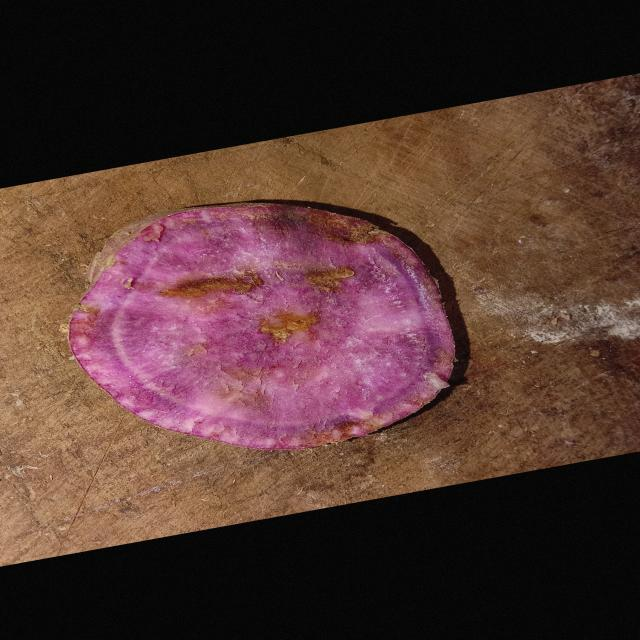Sick Sweet Potato_Tuber Rot: (69, 204, 456, 449)
